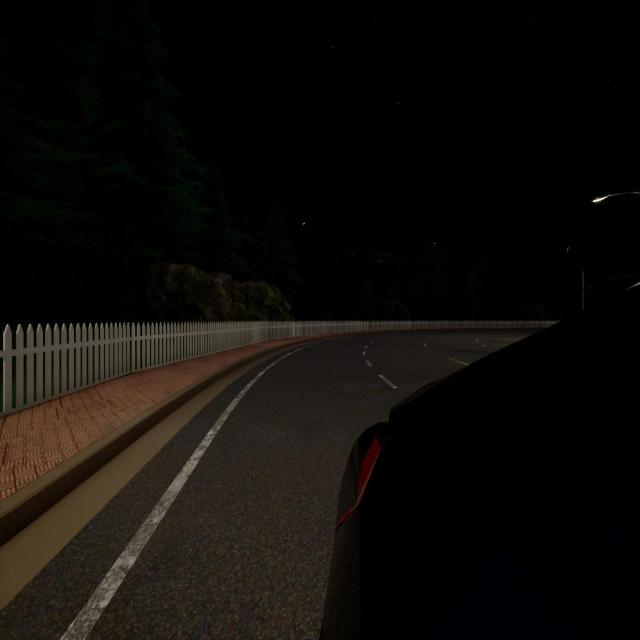Vehicle: (322, 279, 640, 640)
